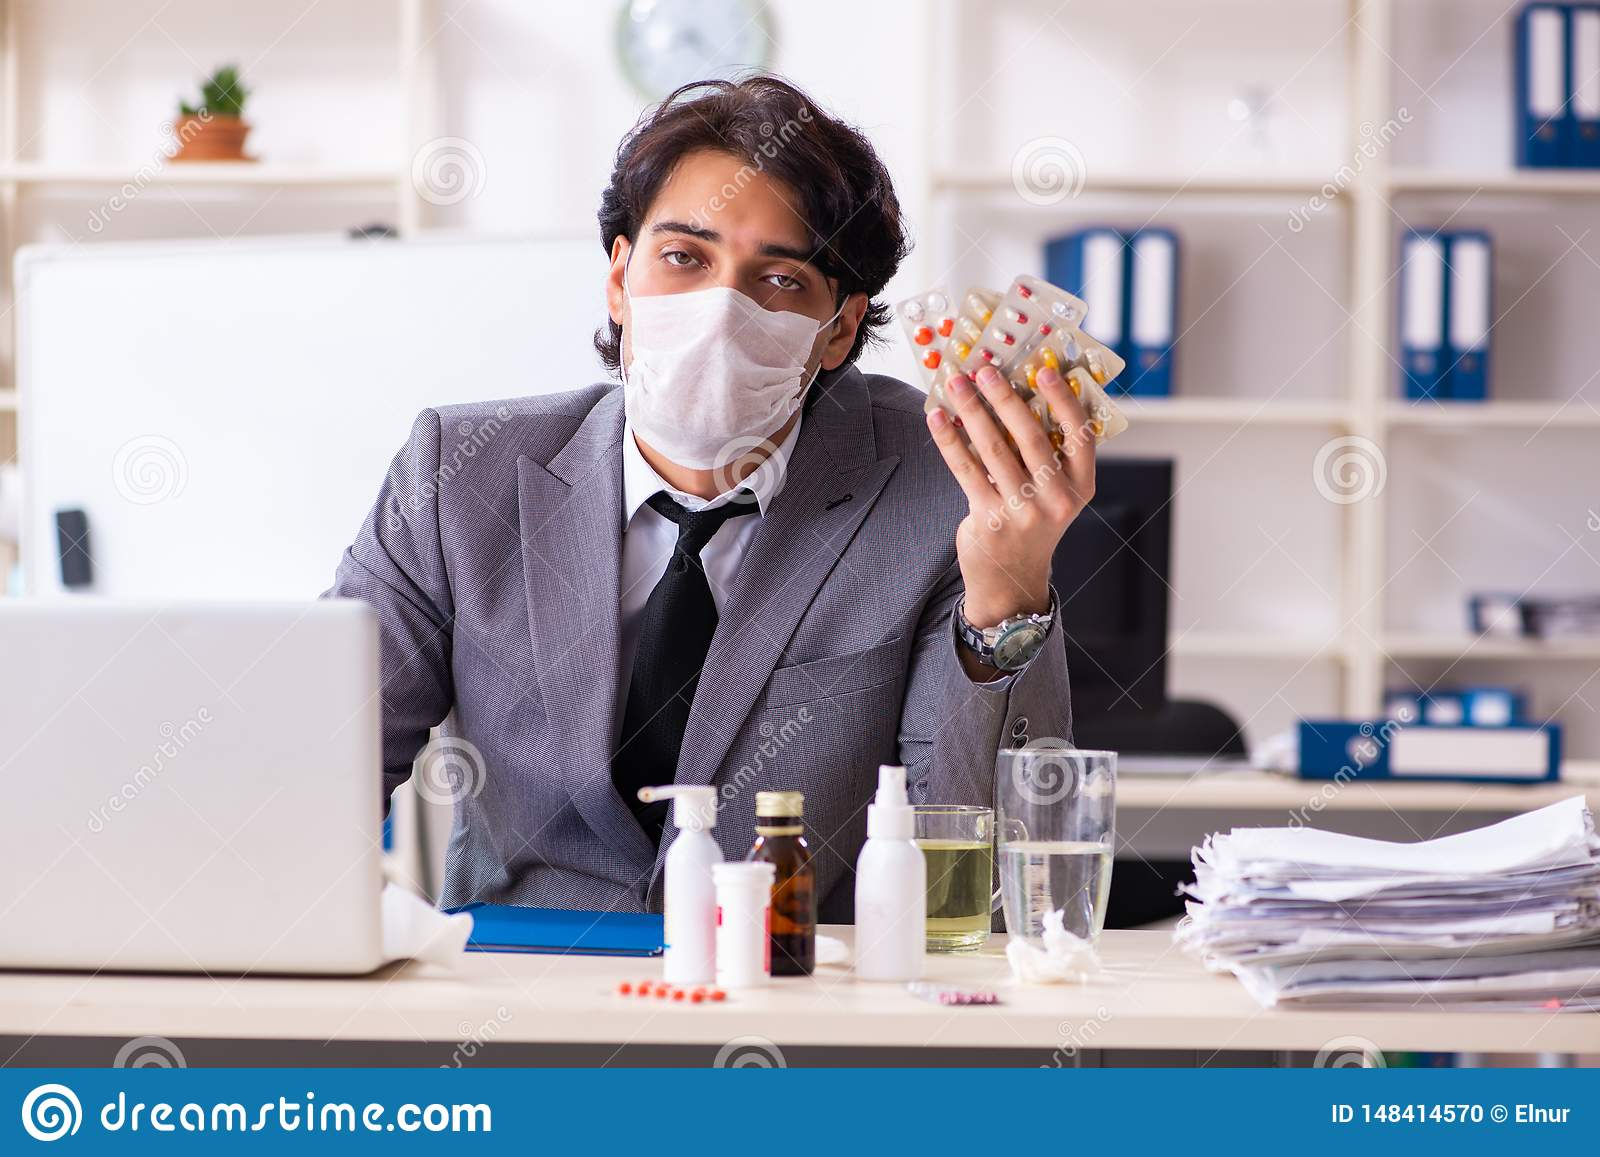mask: (621, 280, 819, 473)
